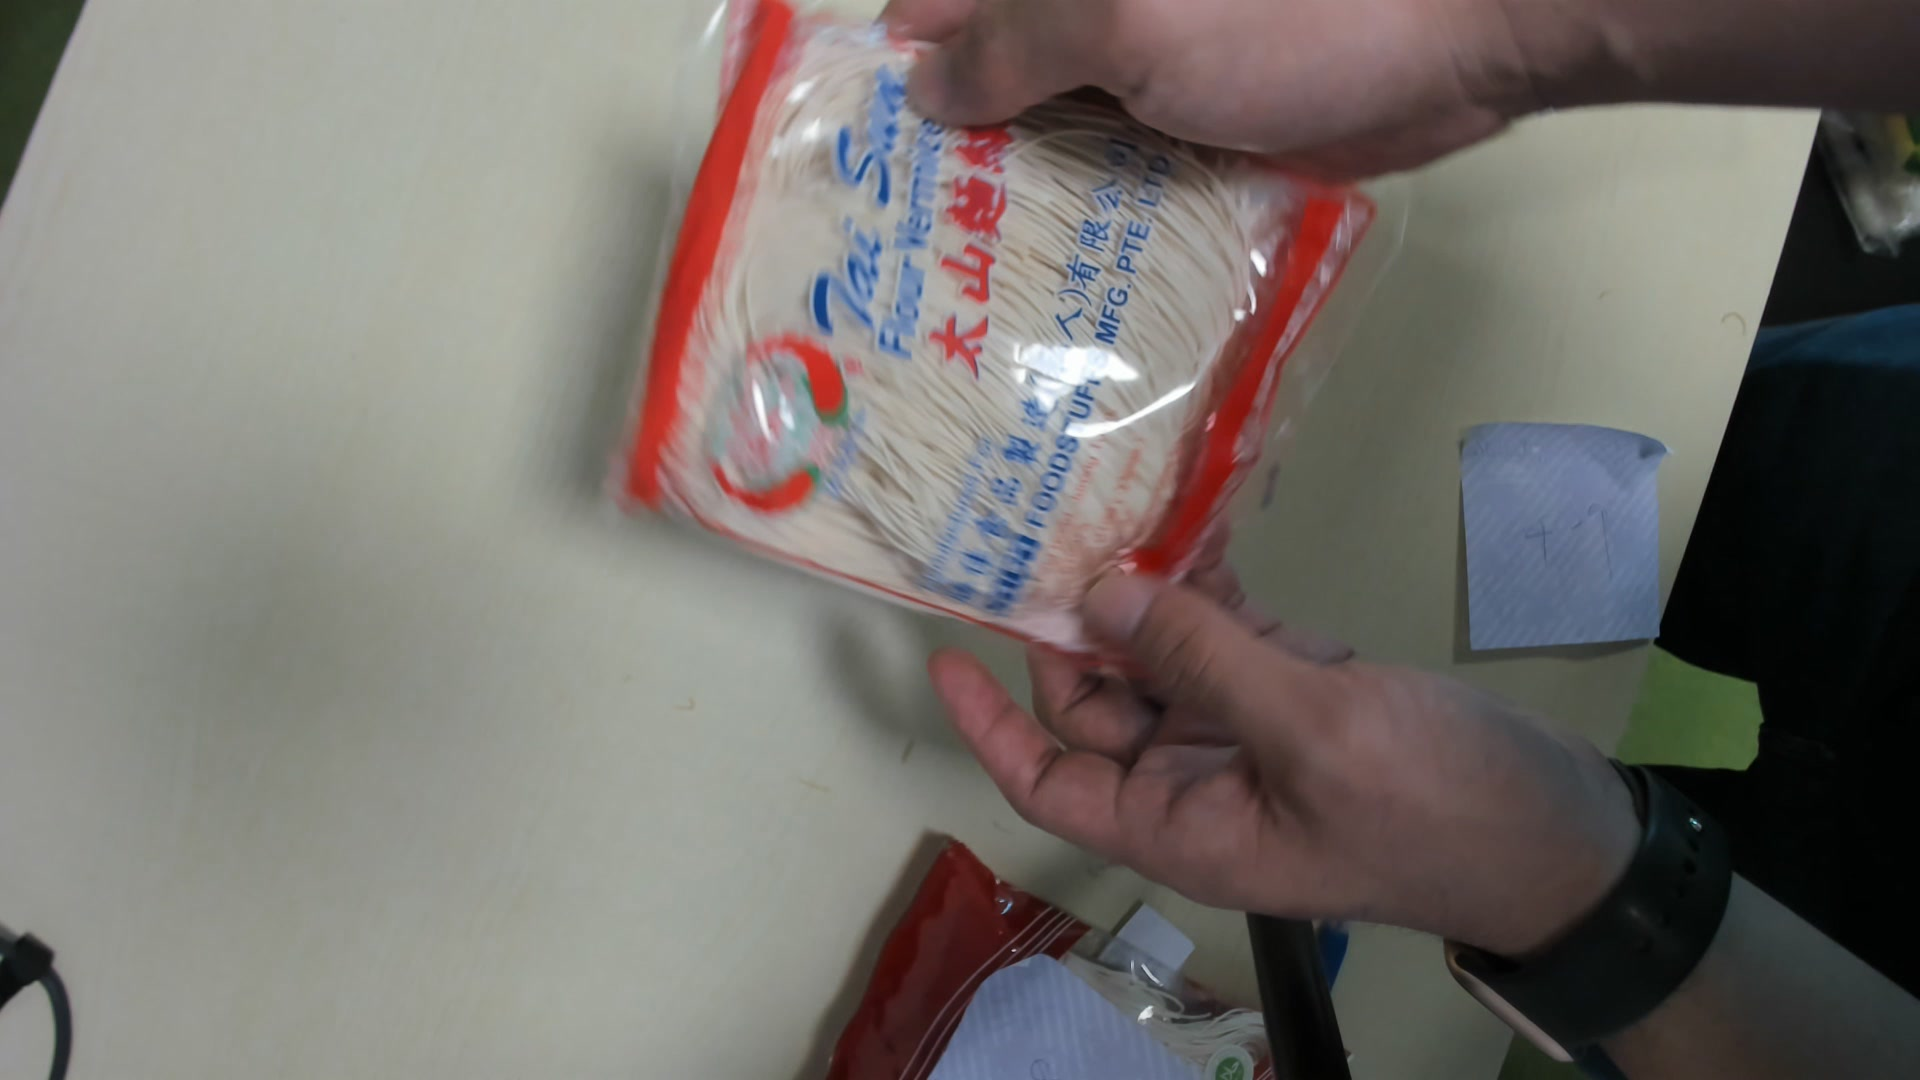BeeHoonVermicelli_100-199g_Halal_NonHealthy: (613, 5, 1367, 662)
